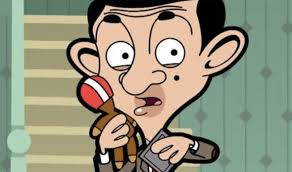mrbean: (65, 1, 250, 172)
